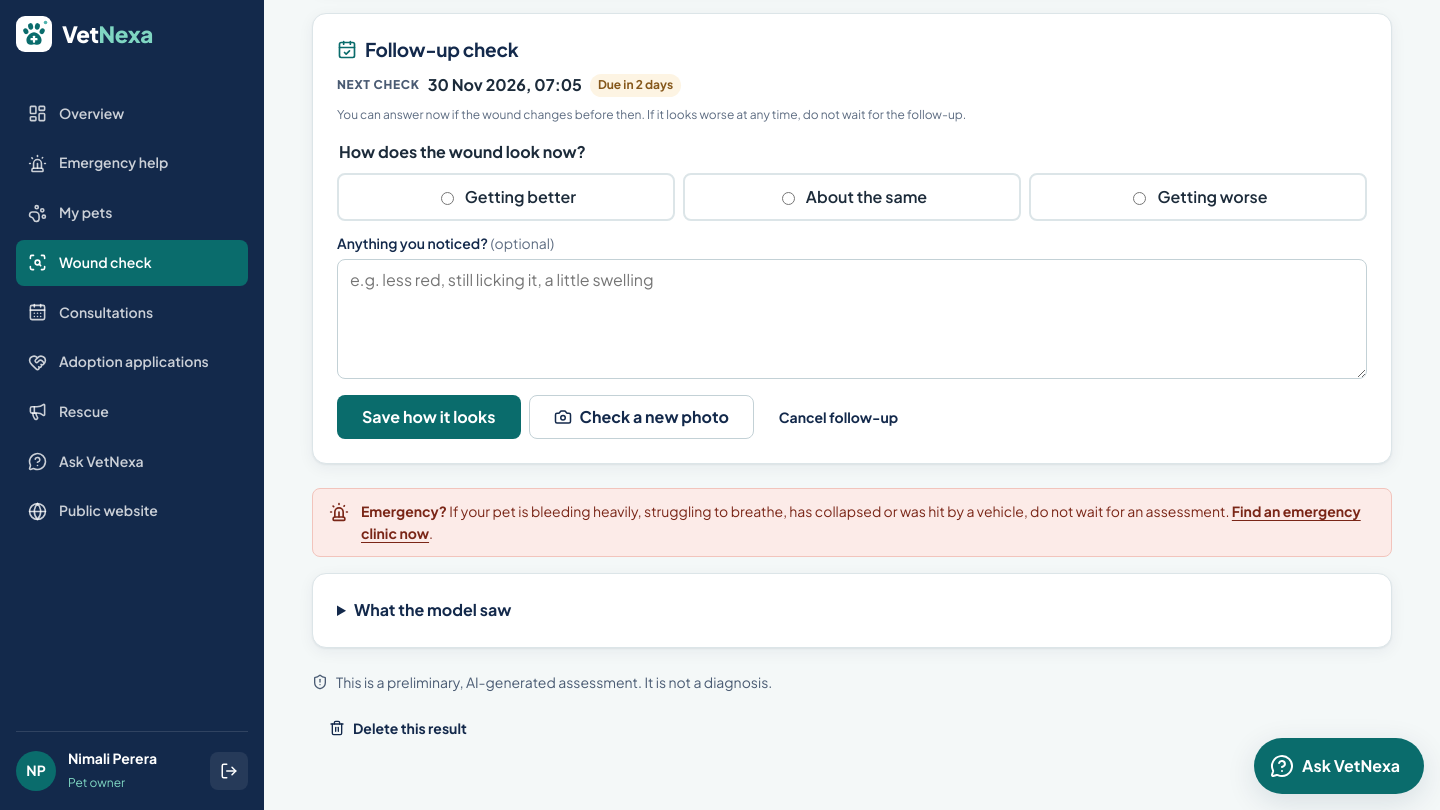
Test case: wound follow-up check-ins › records a worse wound and tells the owner to see a vet
(page scrolled)
Step 1. Click the button "Save how it looks" → (429, 417), box [337,395,520,439]
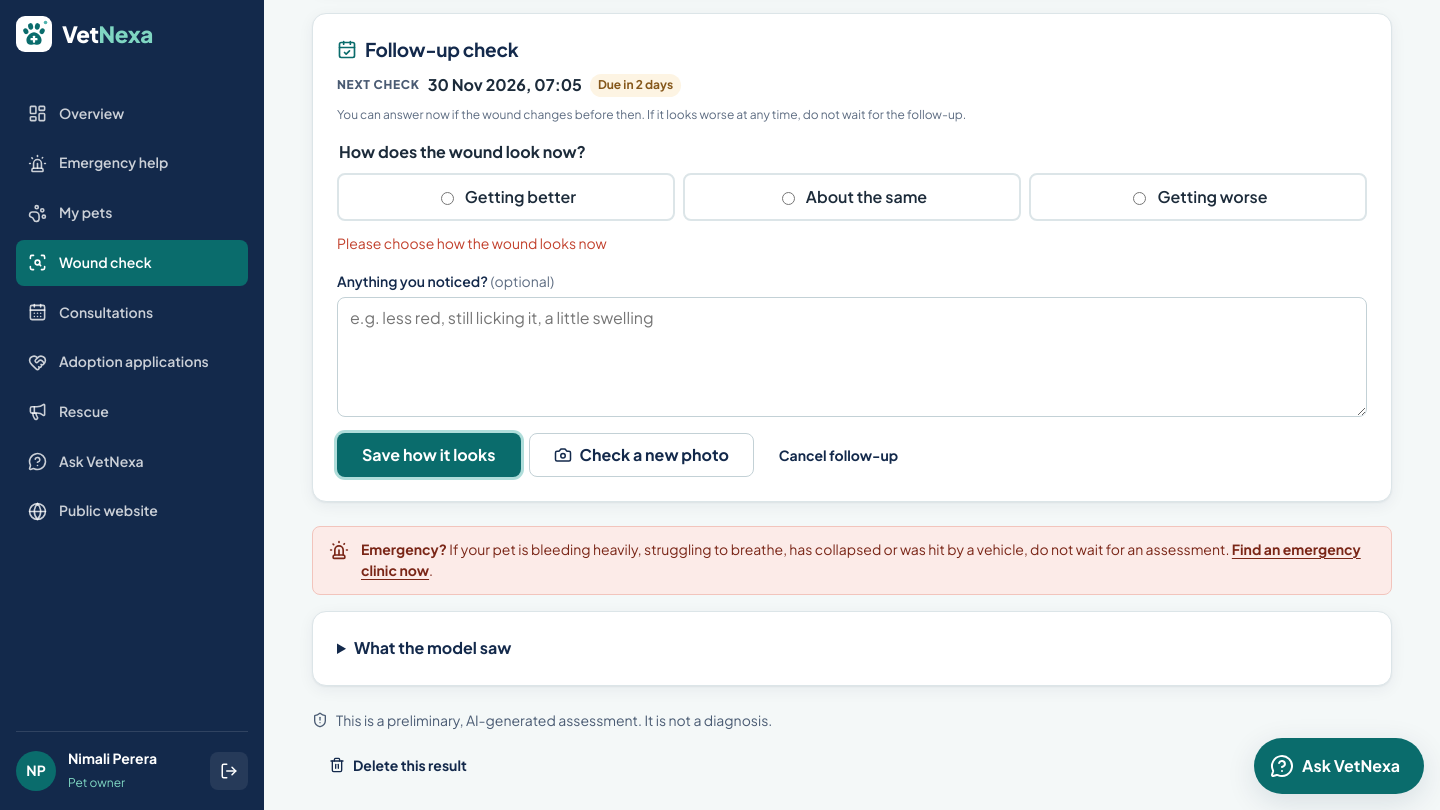
Now the text "Please choose how the wound looks now" is shown, box [337,234,607,252]
Step 2. Click the radio button labelled "Getting worse" → (1140, 199), box [1133,192,1146,205]
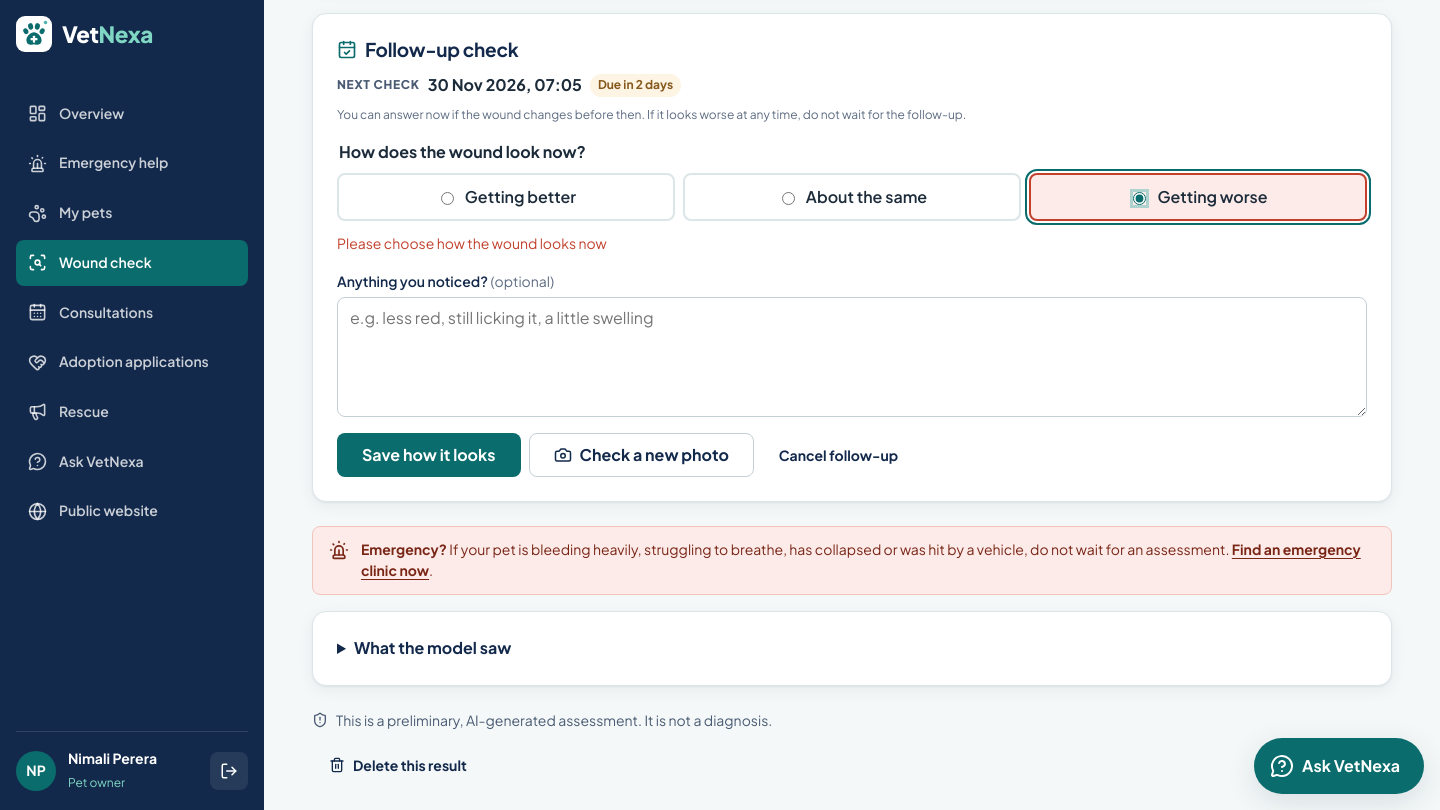
Step 3. Type "More swollen" into the text box labelled "Anything you noticed? (optional)" → (852, 356), box [337,296,1367,416]
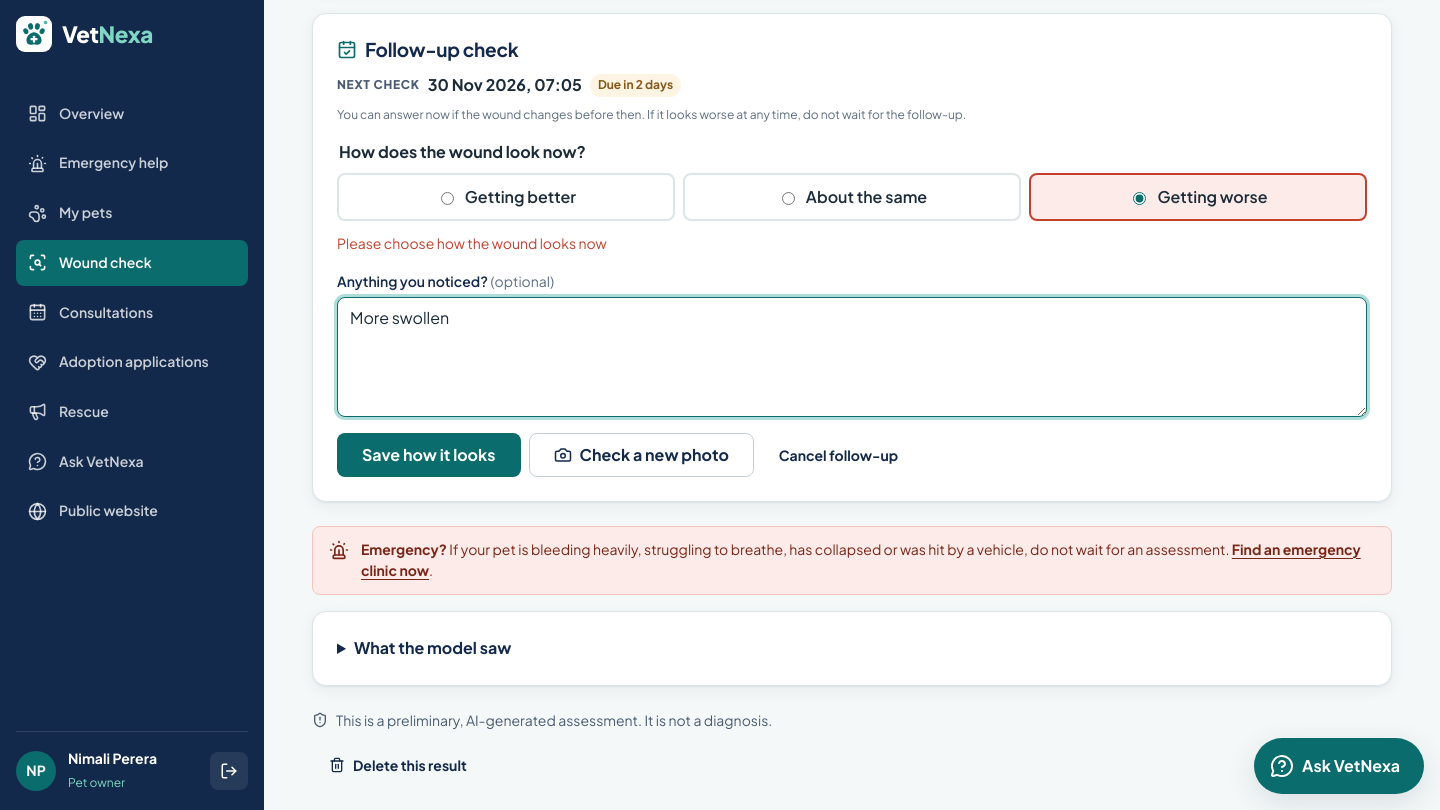
Step 4. Click the button "Save how it looks" → (429, 454), box [337,432,520,476]
(page scrolled)
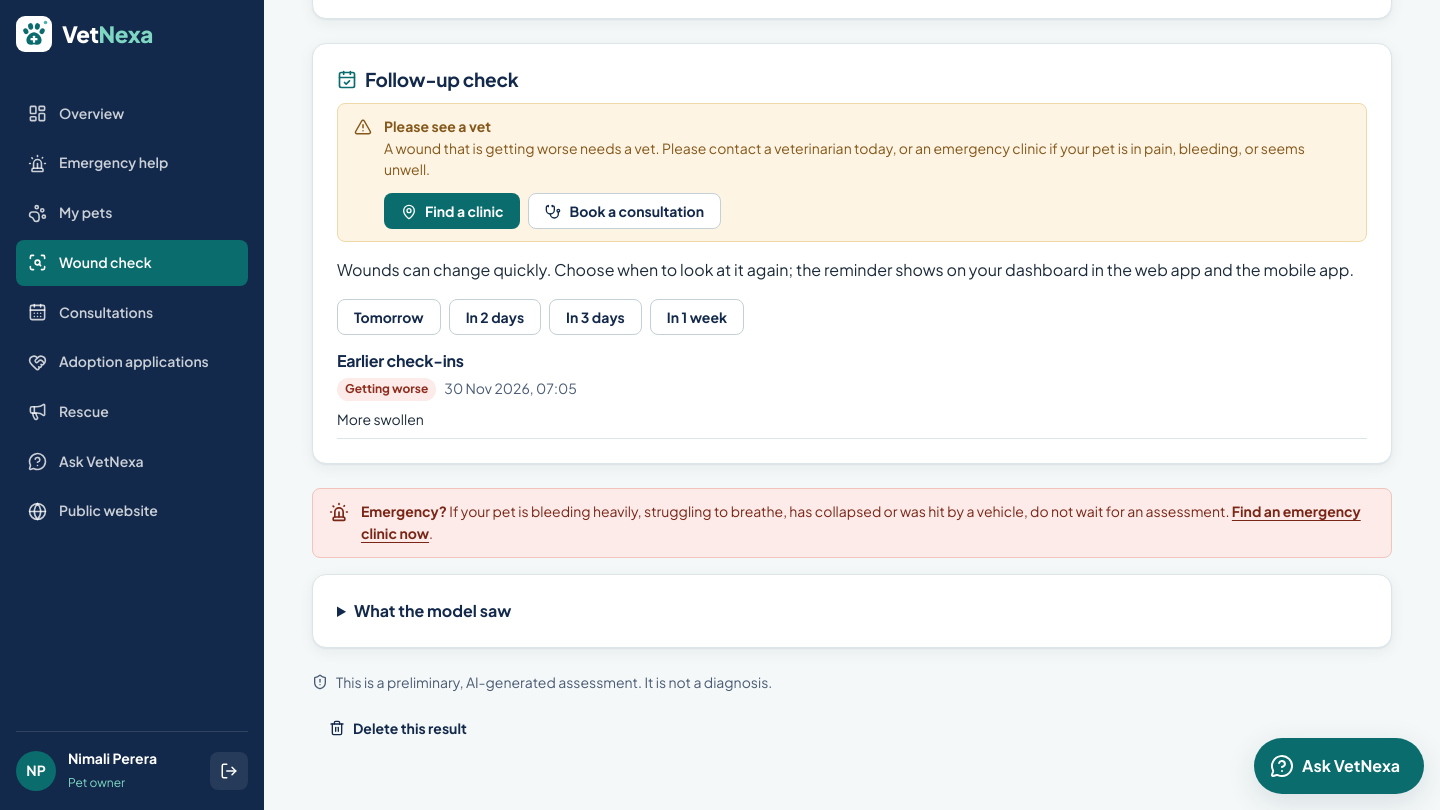
Now the text "Please see a vet" is shown, box [384,117,491,135]
Now the text "More swollen" is shown, box [337,410,424,428]
